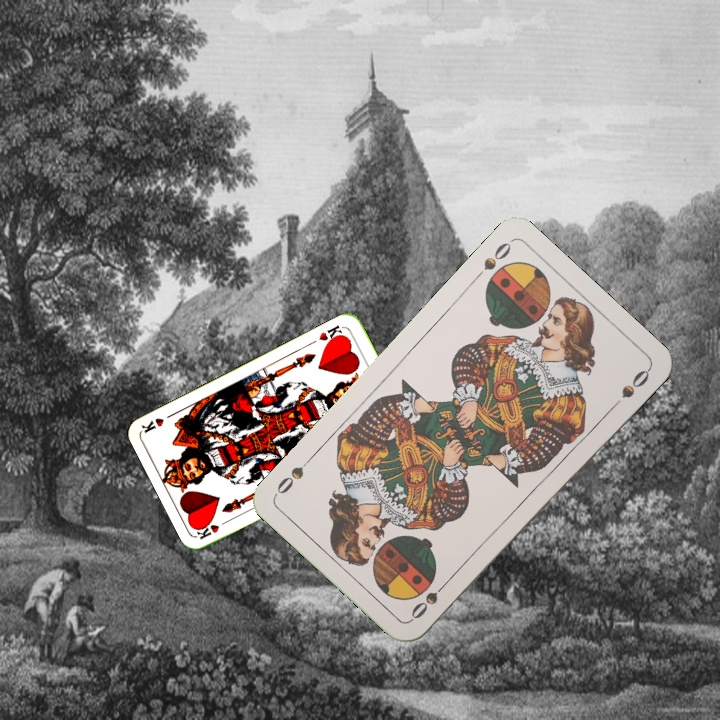HK: (193, 515, 233, 542), (315, 321, 346, 347)
SO: (407, 575, 452, 623), (469, 237, 514, 284)
